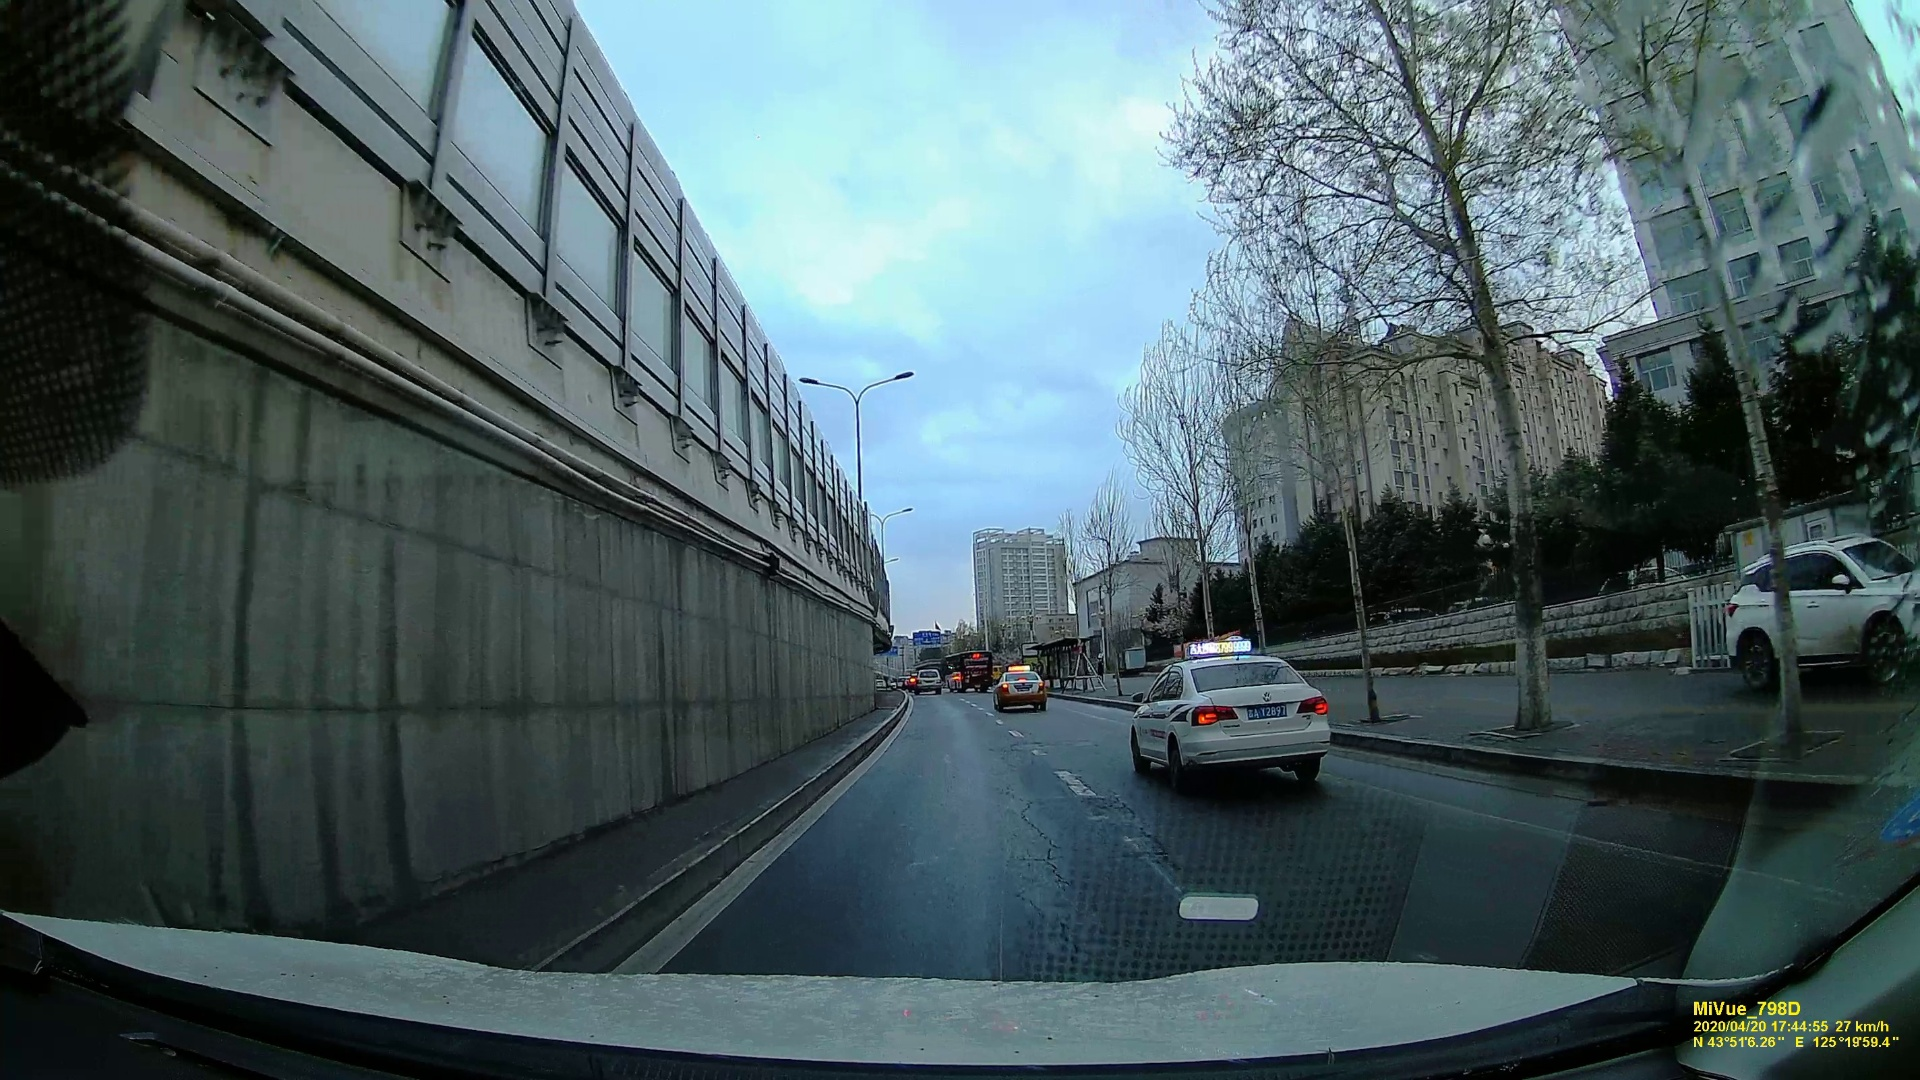bus: (945, 651, 993, 695)
traffic_sign: (913, 632, 942, 647)
vehicle: (1722, 537, 1917, 682), (1129, 653, 1337, 785), (993, 667, 1047, 709), (915, 669, 943, 696)
